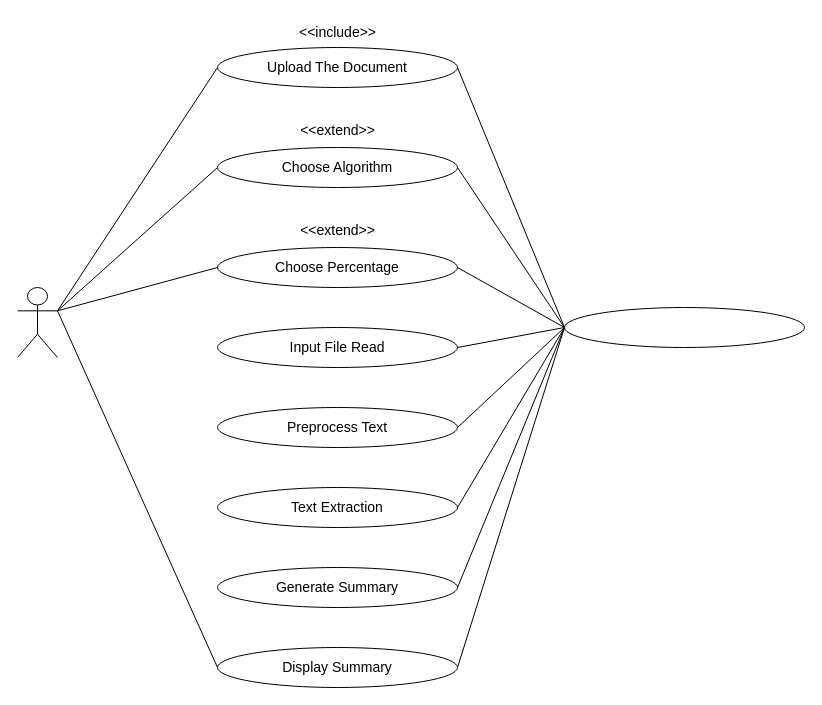
This 822x705 diagram has some shape labels left out. Each missing label, with the centre of its shape:
"TextSummarizer" belongs at (x=684, y=327).
"User" belongs at (x=37, y=322).
